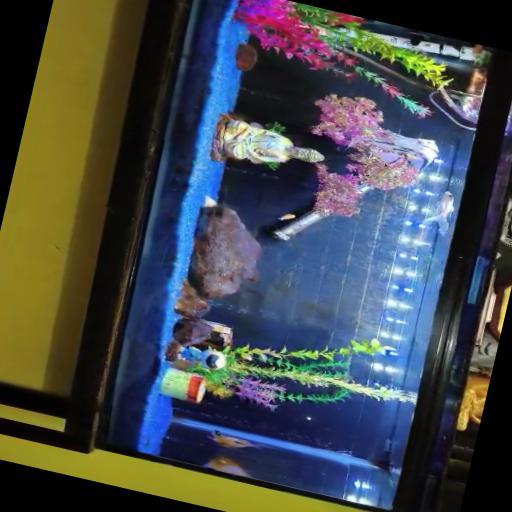Fish: (357, 129, 438, 170), (422, 191, 453, 234), (203, 455, 252, 477), (207, 430, 265, 448), (277, 213, 294, 219)
